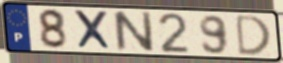2: (156, 11, 191, 54)
8: (38, 7, 69, 50)
9: (198, 14, 230, 55)
D: (234, 13, 272, 57)
N: (110, 10, 156, 53)
X: (71, 9, 115, 52)
